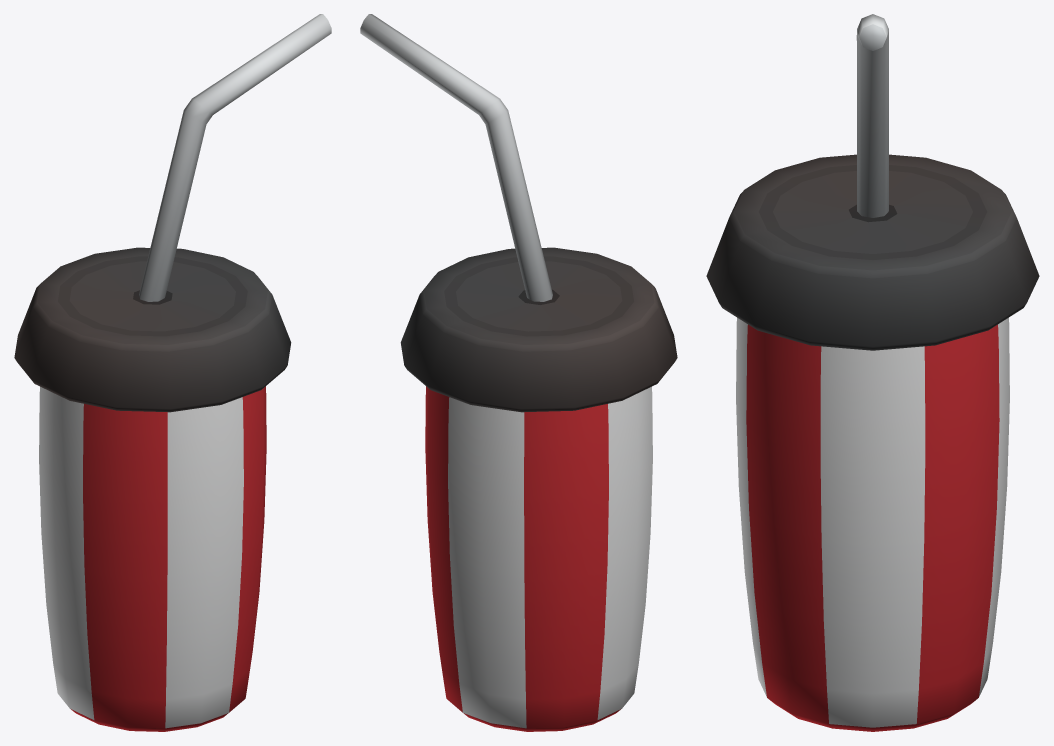
Rendered from soda_001.fbx.
3 renders of one model, left to right at view 1: azimuth 30°, elevation 25°; view 2: azimuth 150°, elevation 25°; view 3: azimuth 270°, elevation 25°, orthographic. The views are drawn at different scales.
Visible parts, largest first — view 1: soda_001; view 2: soda_001; view 3: soda_001.
Part boxes in pixels (left/top/right/bottom): soda_001: left=14, top=14, right=331, bottom=731; soda_001: left=360, top=14, right=677, bottom=731; soda_001: left=706, top=14, right=1039, bottom=731.
Size of the model in its own units: 13.01 by 10.62 by 26.81.
